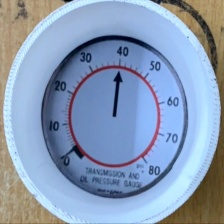gauge: (42, 37, 185, 197)
